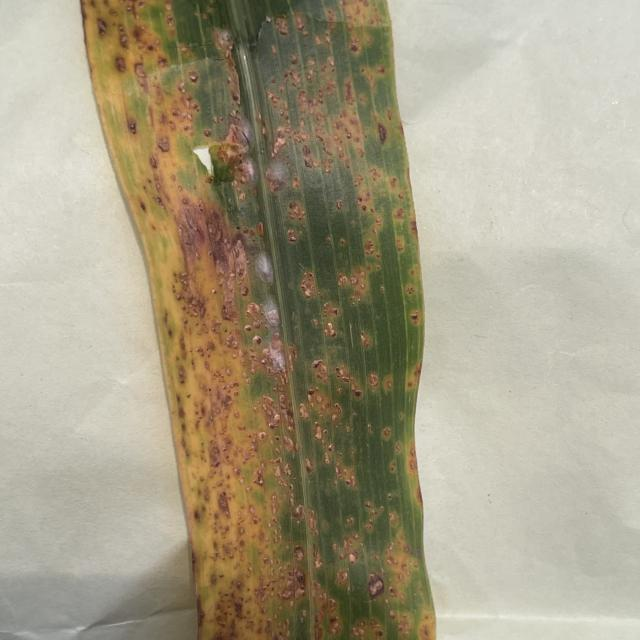millet_rust: (81, 0, 435, 640)
